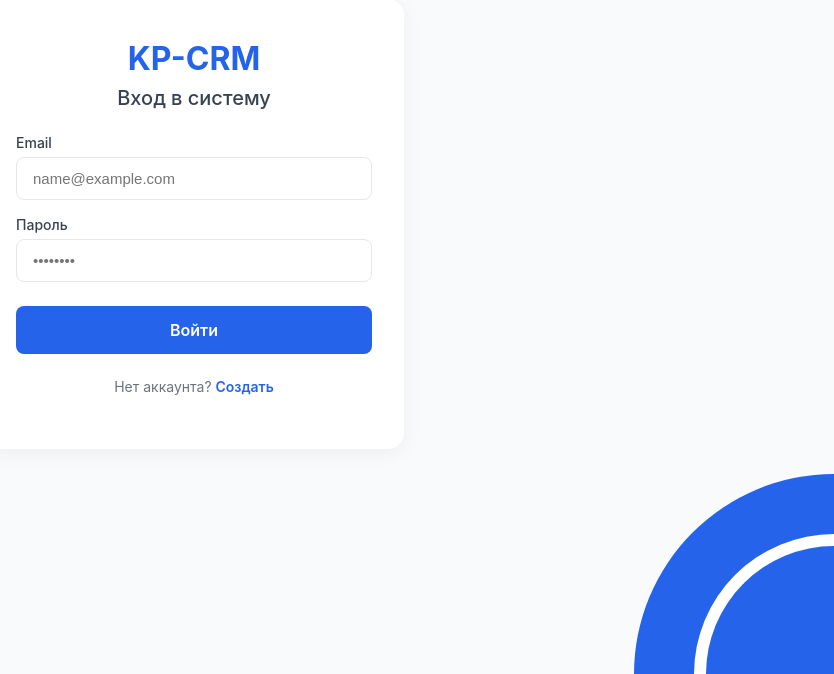
Test: LoginPage Component › displays error message on login failure
Type "wrong@test.com" into the field labelled "Email" at (194, 178), box [16,157,372,200]
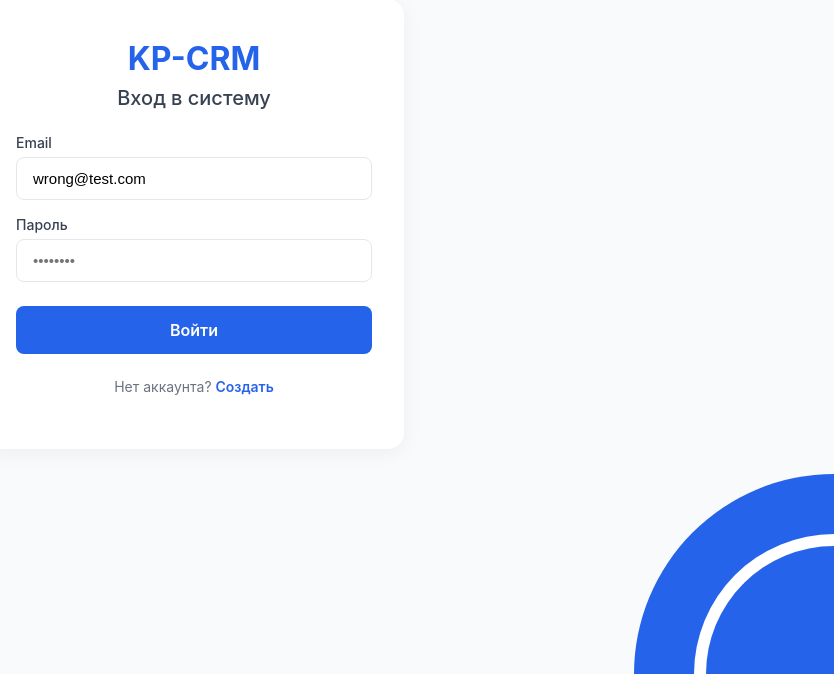
Type "wrongpass" into the password field labelled "Пароль" at (194, 260), box [16,239,372,282]
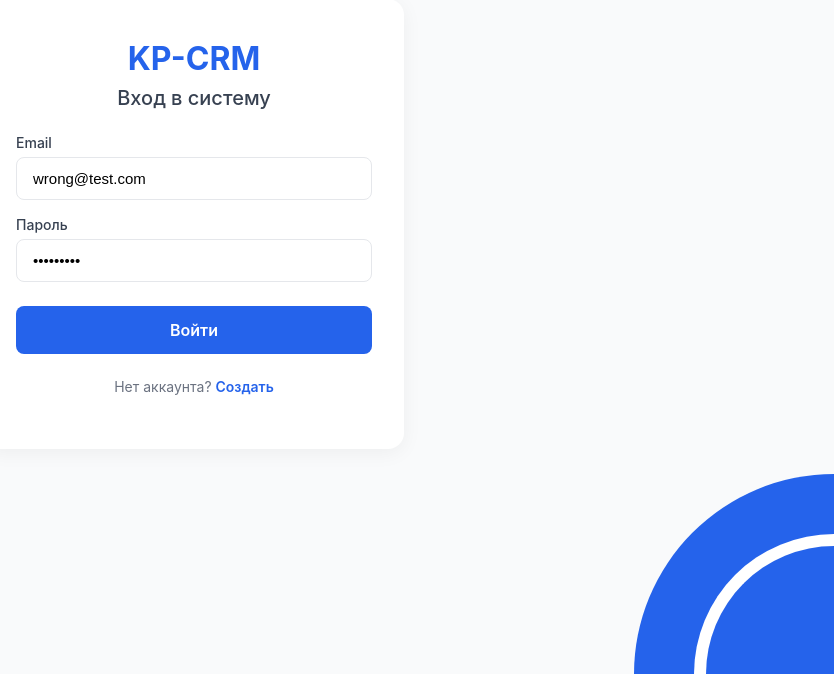
Click the button "Войти" at (194, 330), box [16,306,372,354]
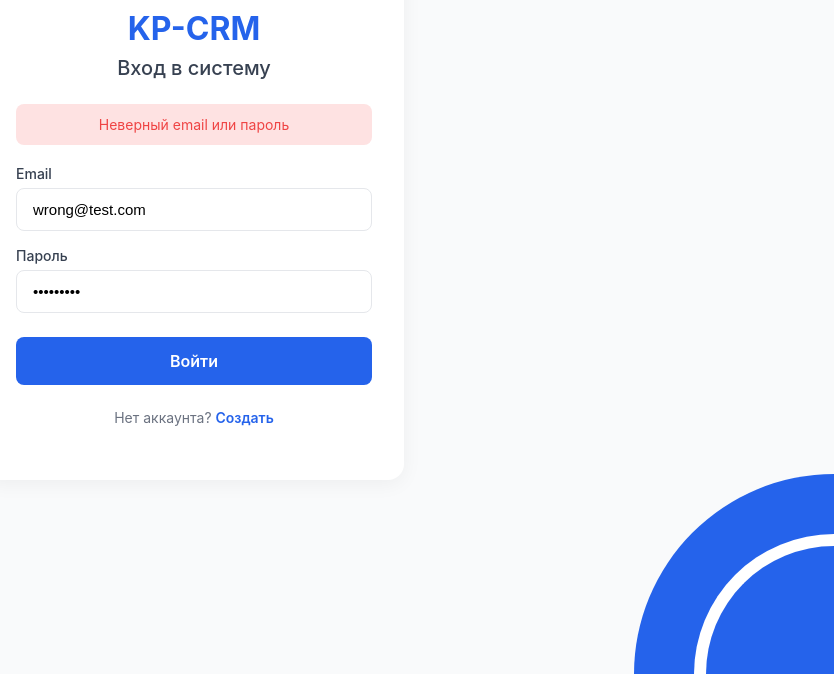
Check: the text "Неверный email или пароль" is shown, box [16,104,372,144]
